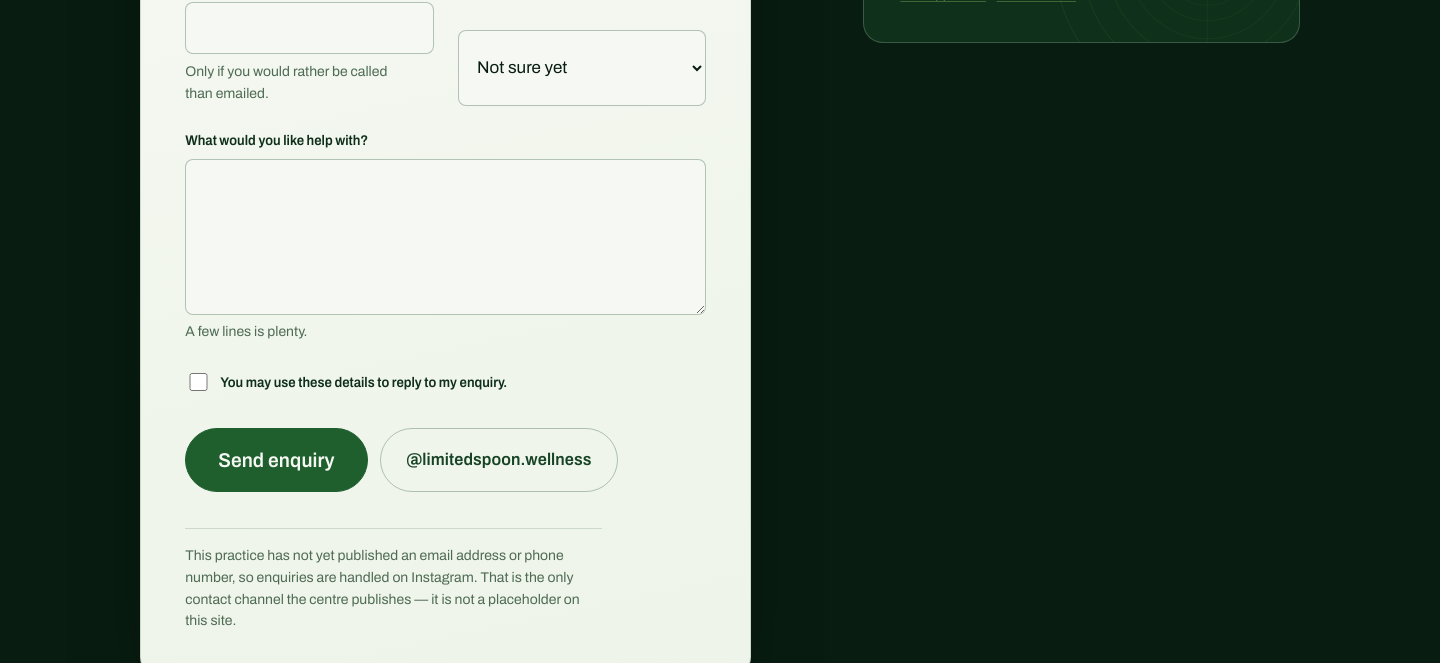
it: Contact enquiry form › clears a field error as soon as the visitor edits that field
(page scrolled)
Click the button "Send enquiry".
click(276, 460)  # box [185,428,368,492]
(page scrolled)
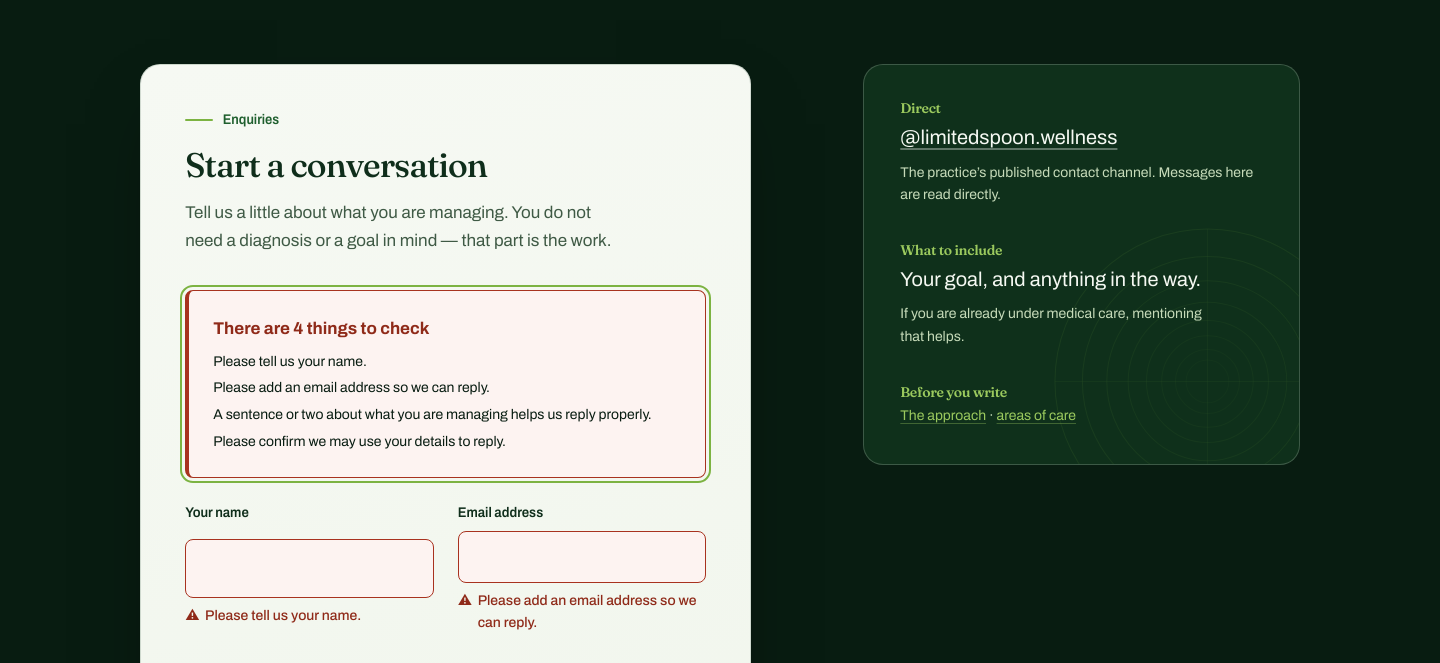
Check: the element with id "name-error" shows "Please tell us your name", box [205,608,361,623]
Type "Priya" into the field labelled "Your name".
click(310, 569); type("Priya")  # box [185,539,434,598]
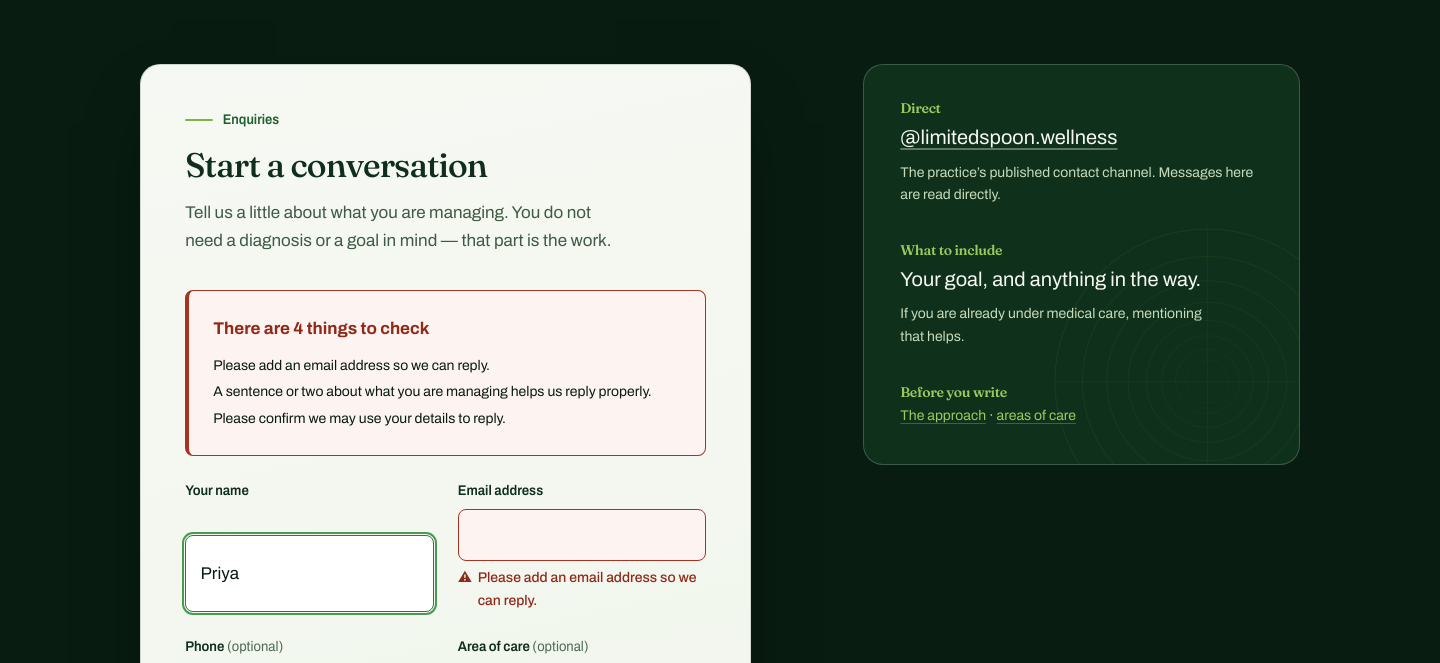
Check: the element with id "name-error" is gone
